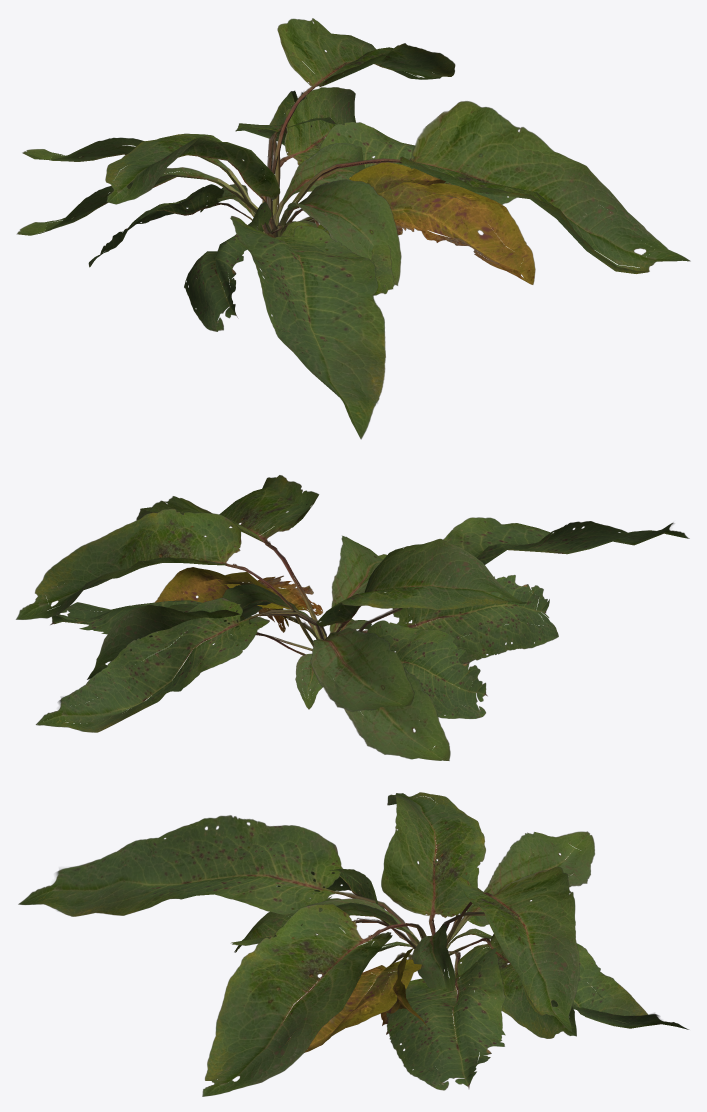
File: weed.glb
3 renders of one model, top to bottom at view 1: azimuth 30°, elevation 25°; view 2: azimuth 150°, elevation 25°; view 3: azimuth 270°, elevation 25°, orthographic. The views are drawn at different scales.
Visible parts, largest first — view 1: weed_plant_02_a_LOD0, weed_plant_02_b_LOD0, weed_plant_02_d_LOD0; view 2: weed_plant_02_a_LOD0, weed_plant_02_b_LOD0, weed_plant_02_d_LOD0; view 3: weed_plant_02_a_LOD0, weed_plant_02_b_LOD0, weed_plant_02_d_LOD0.
Part boxes in pixels (bbox=[...]): weed_plant_02_a_LOD0: bbox=[17, 92, 690, 439]; weed_plant_02_b_LOD0: bbox=[22, 18, 455, 331]; weed_plant_02_d_LOD0: bbox=[88, 87, 365, 267]; weed_plant_02_a_LOD0: bbox=[36, 475, 689, 760]; weed_plant_02_b_LOD0: bbox=[16, 508, 558, 732]; weed_plant_02_d_LOD0: bbox=[87, 584, 487, 718]; weed_plant_02_a_LOD0: bbox=[18, 792, 688, 1096]; weed_plant_02_b_LOD0: bbox=[230, 831, 687, 1034]; weed_plant_02_d_LOD0: bbox=[344, 860, 576, 1038].
Bounding box in the file's own units: 0.2194 × 0.0751 × 0.2909.
1 material, 1 textured.
